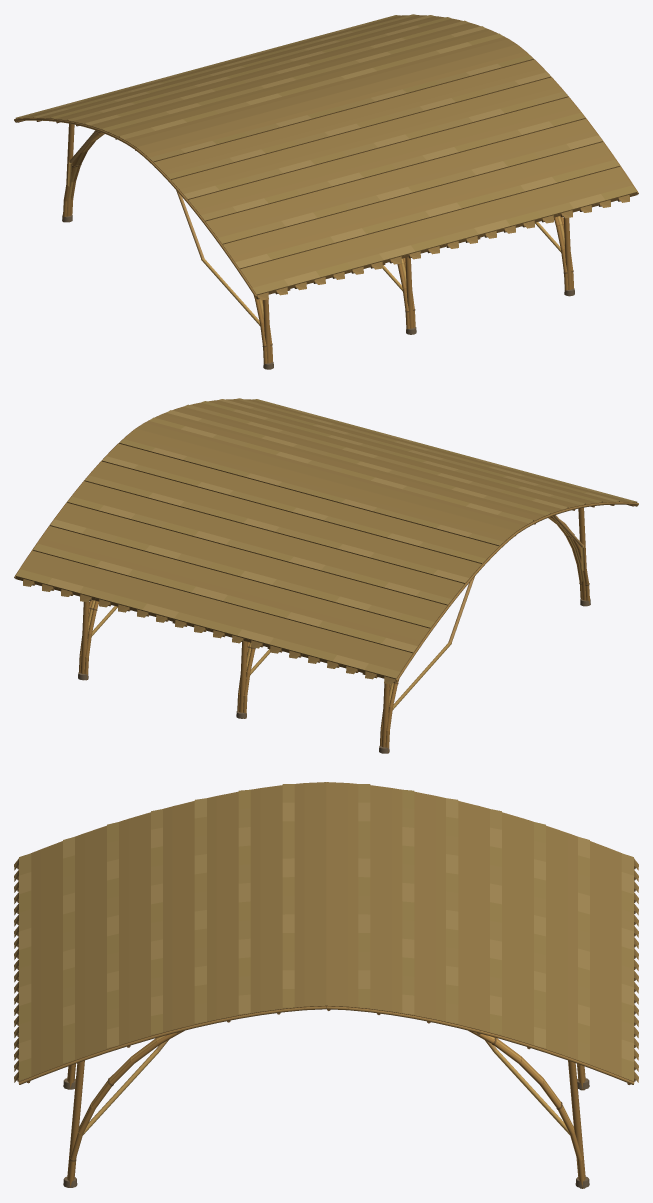
The model's file is pavilion.glb.
The picture shows the model from 3 angles, top to bottom: view 1: azimuth 30°, elevation 25°; view 2: azimuth 150°, elevation 25°; view 3: azimuth 270°, elevation 25°; orthographic projection. The views are drawn at different scales.
Parts seen in each view (by area): view 1: thatch-shell-and-courses.fabric, bundled-arches-and-braces.wood, purlins-rafters-and-eaves.wood, purlins-rafters-and-eaves.fabric; view 2: thatch-shell-and-courses.fabric, bundled-arches-and-braces.wood, purlins-rafters-and-eaves.wood, purlins-rafters-and-eaves.fabric; view 3: thatch-shell-and-courses.fabric, bundled-arches-and-braces.wood, purlins-rafters-and-eaves.wood, purlins-rafters-and-eaves.fabric.
Boxes of the visible parts, x1,y1,x2,y2 form: thatch-shell-and-courses.fabric: (15,14,637,295); bundled-arches-and-braces.wood: (62,123,574,369); purlins-rafters-and-eaves.wood: (14,15,638,299); purlins-rafters-and-eaves.fabric: (257,195,629,300); thatch-shell-and-courses.fabric: (15,398,637,679); bundled-arches-and-braces.wood: (78,507,590,753); purlins-rafters-and-eaves.wood: (14,399,638,683); purlins-rafters-and-eaves.fabric: (23,579,395,684); thatch-shell-and-courses.fabric: (19,782,633,1081); bundled-arches-and-braces.wood: (63,1030,589,1188); purlins-rafters-and-eaves.wood: (17,782,635,1084); purlins-rafters-and-eaves.fabric: (14,859,638,1082).
Bounding box in the file's own units: 24.21 × 9.93 × 26.84.
